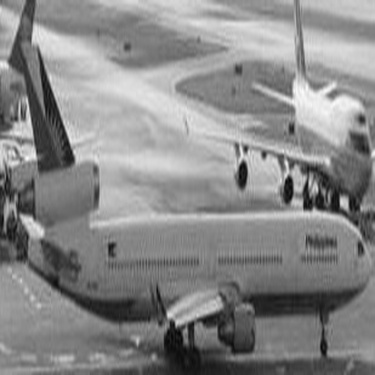airplane: (2, 1, 373, 372), (171, 1, 371, 224), (4, 1, 60, 141)
